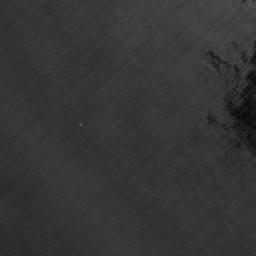Target: (76, 122, 83, 127)
